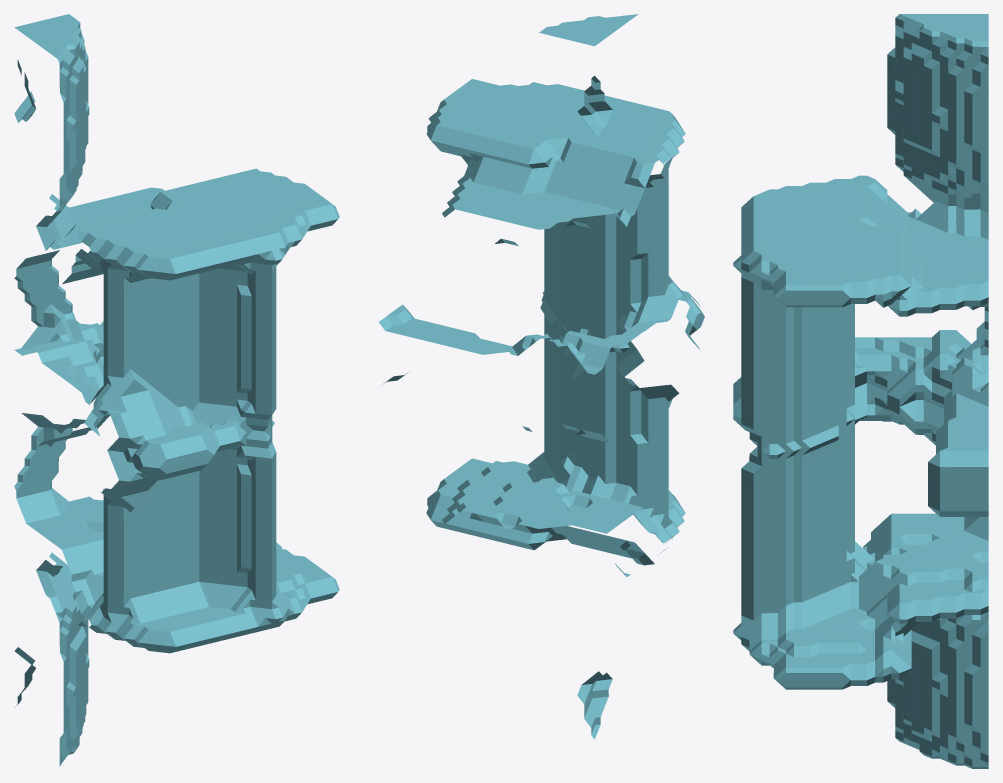
The model's file is W11_GLBDERIVED_REAR_WING_CFD_VIEW.glb.
3 views of the same model, side by side, from view 1: azimuth 30°, elevation 25°; view 2: azimuth 150°, elevation 25°; view 3: azimuth 270°, elevation 25° (orthographic). The views are drawn at different scales.
Visible parts, largest first — view 1: W11_2020_GLBDERIVED_CFD_SURFACE.stl; view 2: W11_2020_GLBDERIVED_CFD_SURFACE.stl; view 3: W11_2020_GLBDERIVED_CFD_SURFACE.stl.
Boxes of the visible parts, x1,y1,x2,y2 form: W11_2020_GLBDERIVED_CFD_SURFACE.stl: (14,14,339,766); W11_2020_GLBDERIVED_CFD_SURFACE.stl: (378,14,704,739); W11_2020_GLBDERIVED_CFD_SURFACE.stl: (733,14,988,768).
Size of the model in its own units: 0.6504 by 1.98 by 0.6304.
